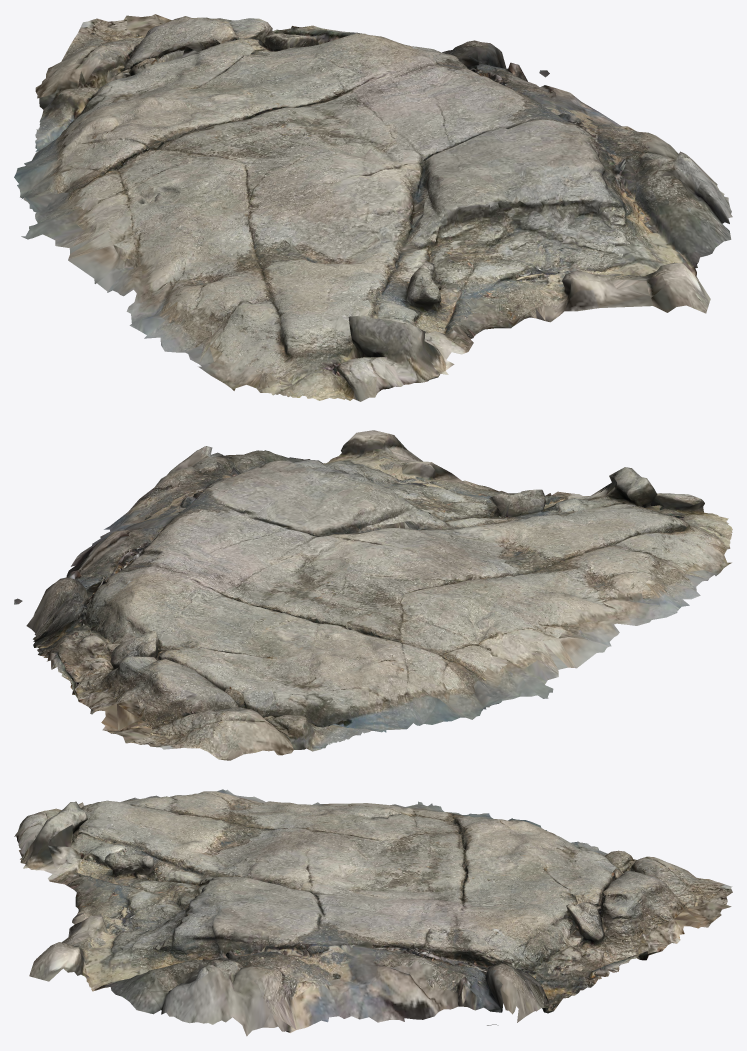
Rendered from big_flat_beach_rock.glb.
The picture shows the model from 3 angles, top to bottom: view 1: azimuth 30°, elevation 25°; view 2: azimuth 150°, elevation 25°; view 3: azimuth 270°, elevation 25°; orthographic projection. The views are drawn at different scales.
Visible parts, largest first — view 1: Flat beach rock scan from protugal; view 2: Flat beach rock scan from protugal; view 3: Flat beach rock scan from protugal.
Part boxes in pixels (x1=…): Flat beach rock scan from protugal: x1=14, y1=14, x2=732, y2=401; Flat beach rock scan from protugal: x1=14, y1=430, x2=732, y2=760; Flat beach rock scan from protugal: x1=14, y1=789, x2=732, y2=1036.
Bounding box in the file's own units: 5.92 × 0.7472 × 7.73.
Materials: 1 (1 with a texture image).
